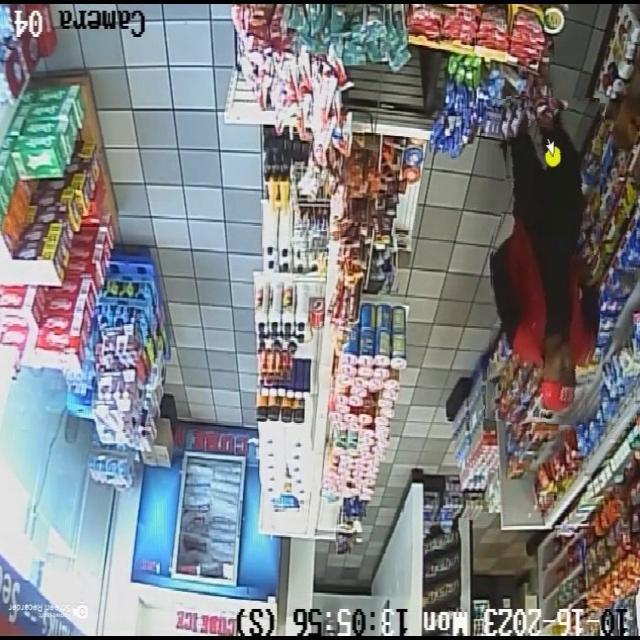Normal: (490, 98, 600, 424)
